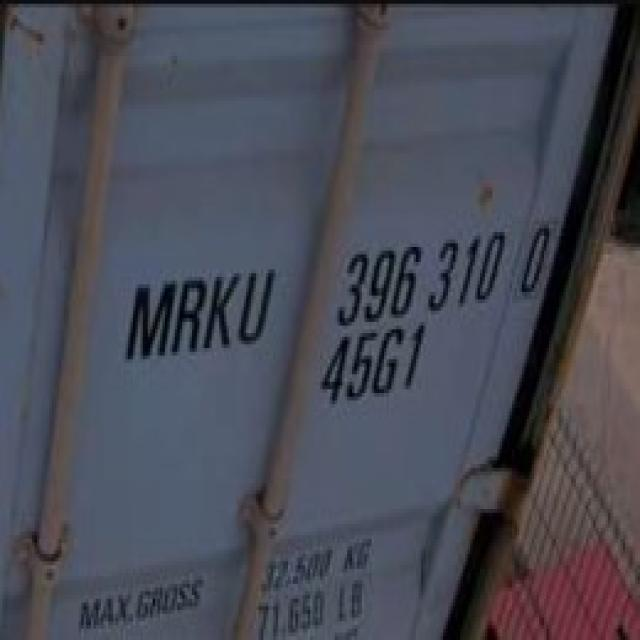dv: (518, 217, 556, 302)
owner: (120, 259, 280, 370)
serial: (332, 222, 507, 329)
size: (320, 321, 430, 408)
